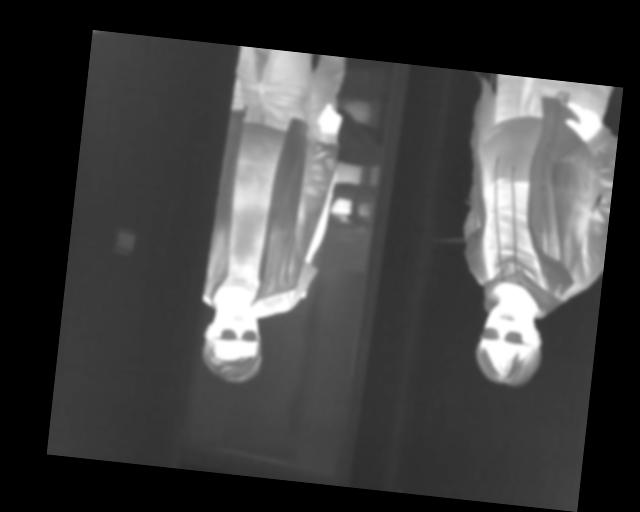face: (472, 298, 547, 392), (199, 294, 265, 382)
